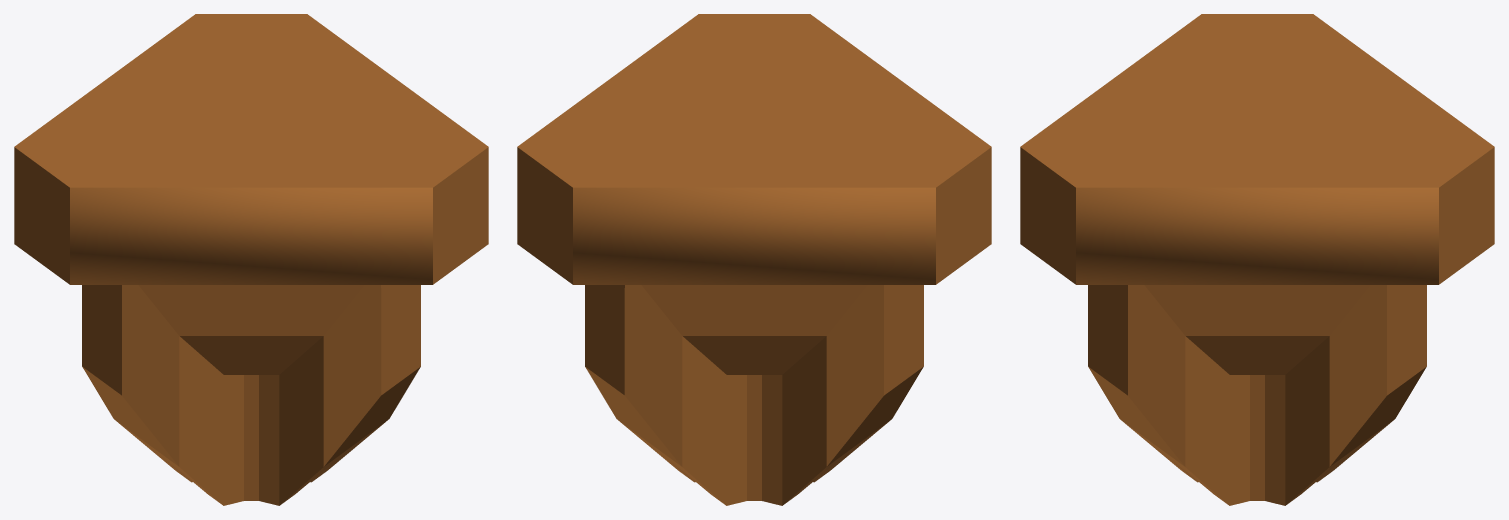
Rendered from KeyHole.fbx.
3 renders of one model, left to right at view 1: azimuth 30°, elevation 25°; view 2: azimuth 150°, elevation 25°; view 3: azimuth 270°, elevation 25°, orthographic.
Parts seen in each view (by area): view 1: Key.000; view 2: Key.000; view 3: Key.000.
Boxes of the visible parts, x1,y1,x2,y2 form: Key.000: [14, 14, 488, 505]; Key.000: [517, 14, 991, 505]; Key.000: [1020, 14, 1494, 505].
Bounding box in the file's own units: 128 × 123 × 148.
